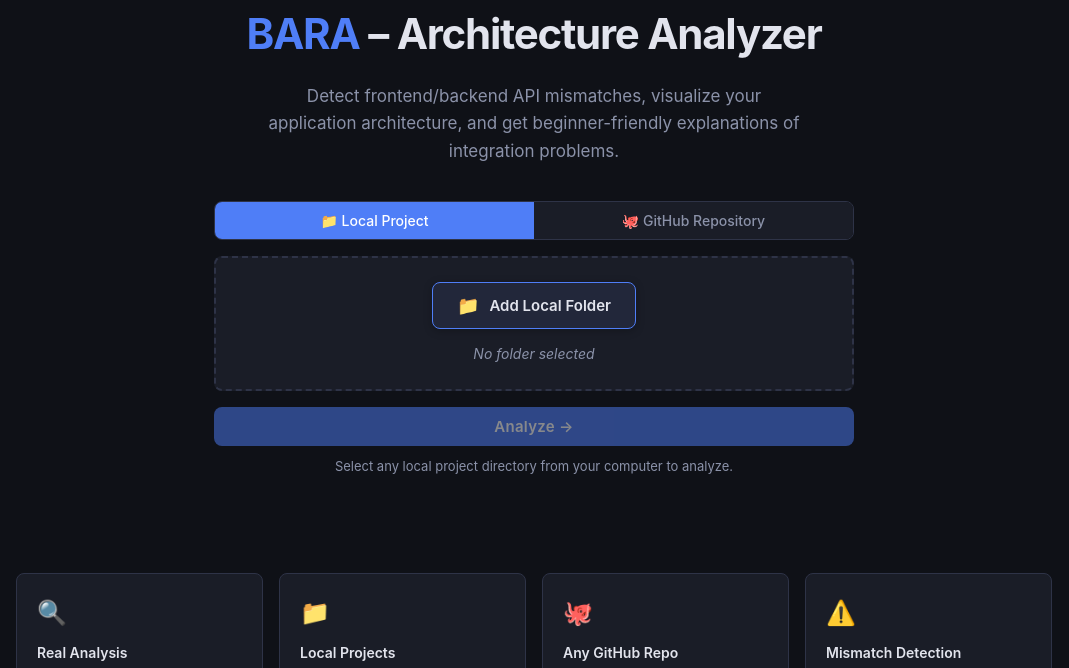
Test: HomePage Folder Picker Workflow › switches to GitHub mode and enables analyze when URL is provided
Click the button "🐙 GitHub Repository". click: (694, 220)
box: [534,202,853,239]
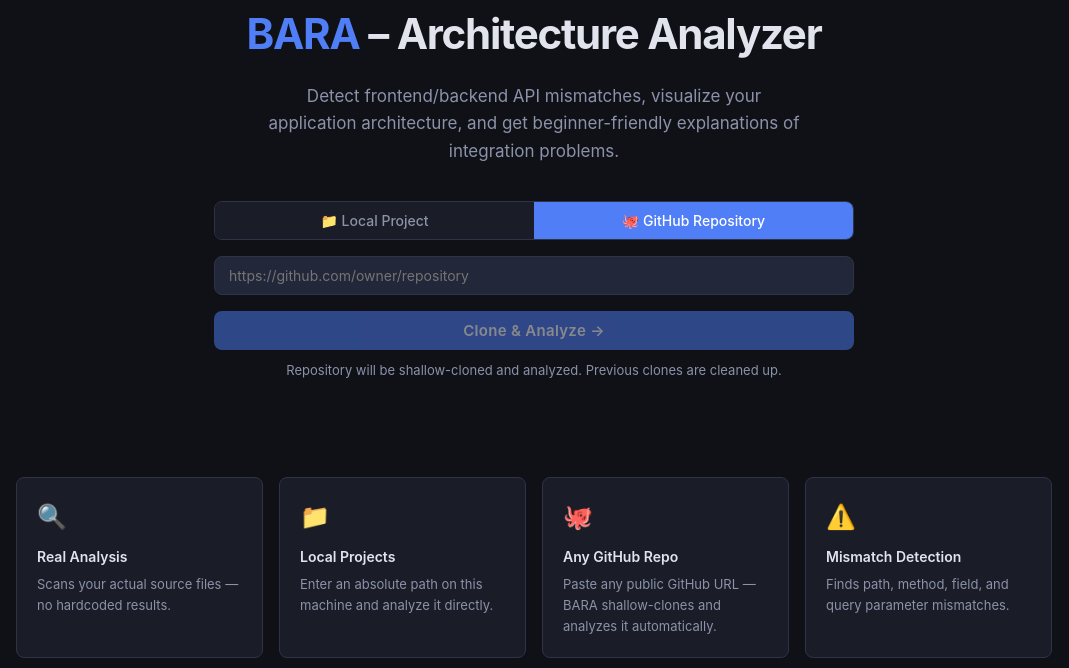
Expected: the button "Clone & Analyze →" is disabled, [214,311,854,350]
Now the field named "GitHub repository URL" is shown
Type "https://github.com/tiangolo/fastapi" into the field named "GitHub repository URL". click: (534, 275)
box: [214,256,854,295]
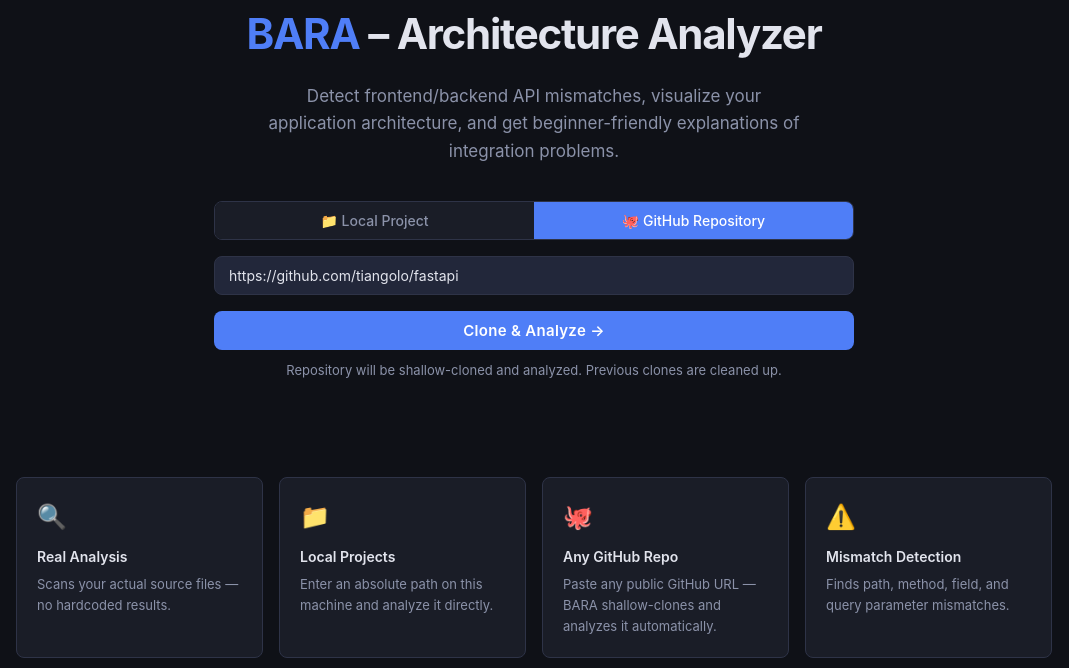
Now the button "Clone & Analyze →" is enabled, box [214,311,854,350]
